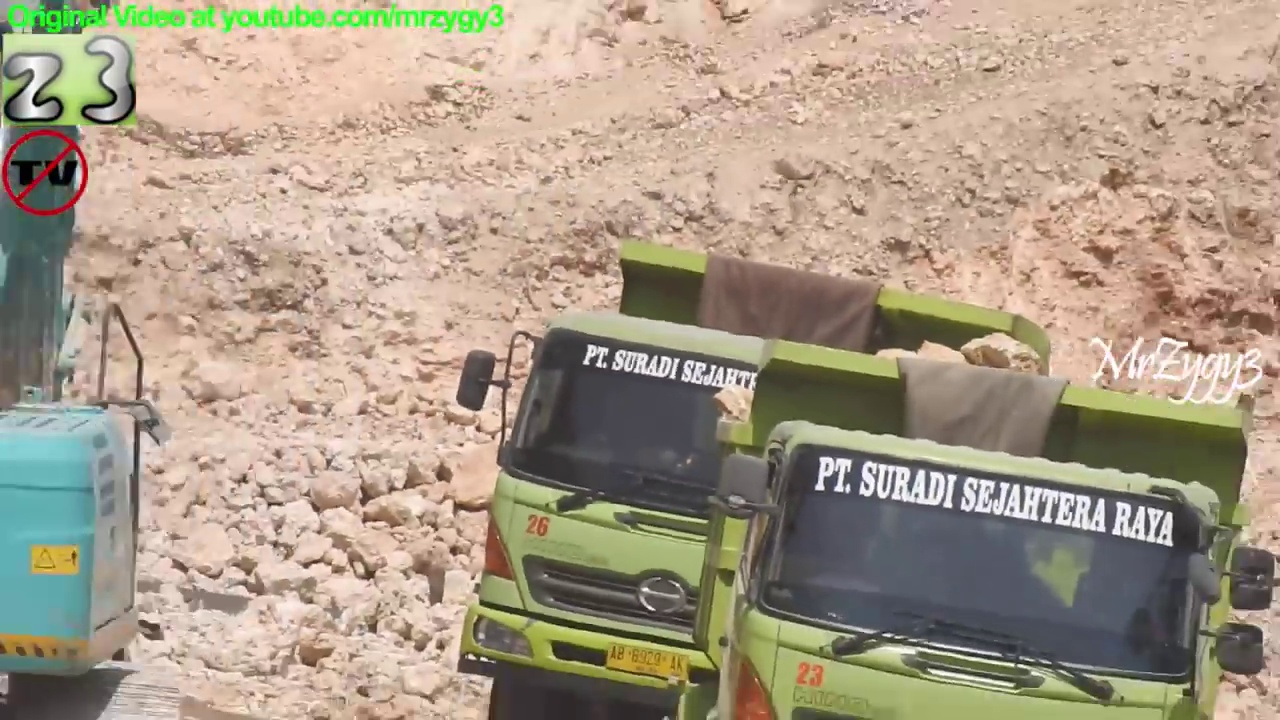excavator: (1, 1, 203, 720)
truck: (448, 230, 1077, 720), (689, 331, 1278, 720)
